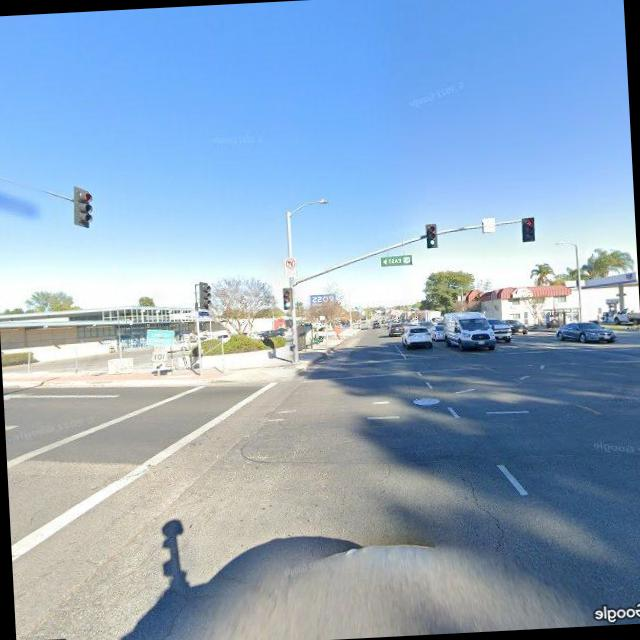pothole: (456, 467, 512, 557)
